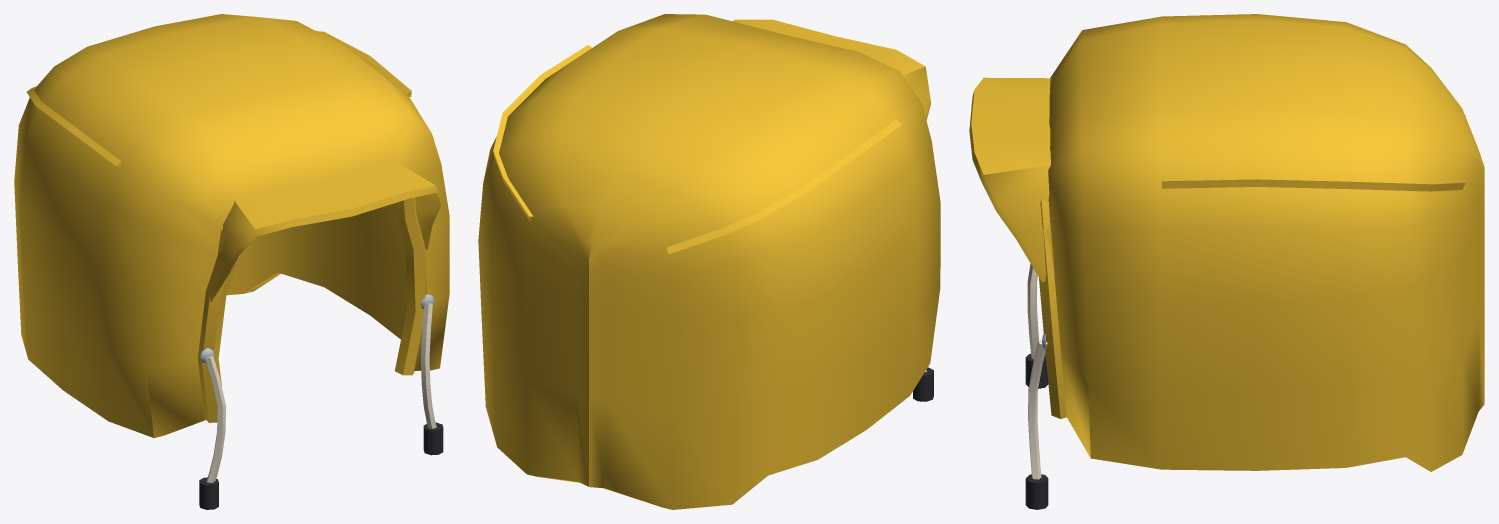
File: Cosmetic_Hat_RainHood.fbx
3 renders of one model, left to right at view 1: azimuth 30°, elevation 25°; view 2: azimuth 150°, elevation 25°; view 3: azimuth 270°, elevation 25°, orthographic. The views are drawn at different scales.
Visible parts, largest first — view 1: Hood, Drawstrings, Toggles; view 2: Hood, Toggles; view 3: Hood, Drawstrings, Toggles.
Part boxes in pixels (x1,y1,x2,y2): Hood: (14, 14, 449, 437); Drawstrings: (205, 303, 436, 482); Toggles: (199, 422, 443, 509); Hood: (478, 14, 940, 509); Toggles: (913, 367, 933, 401); Hood: (969, 14, 1484, 471); Drawstrings: (1027, 263, 1047, 479); Toggles: (1025, 353, 1048, 509).
Bounding box in the file's own units: 143 × 143 × 173.
